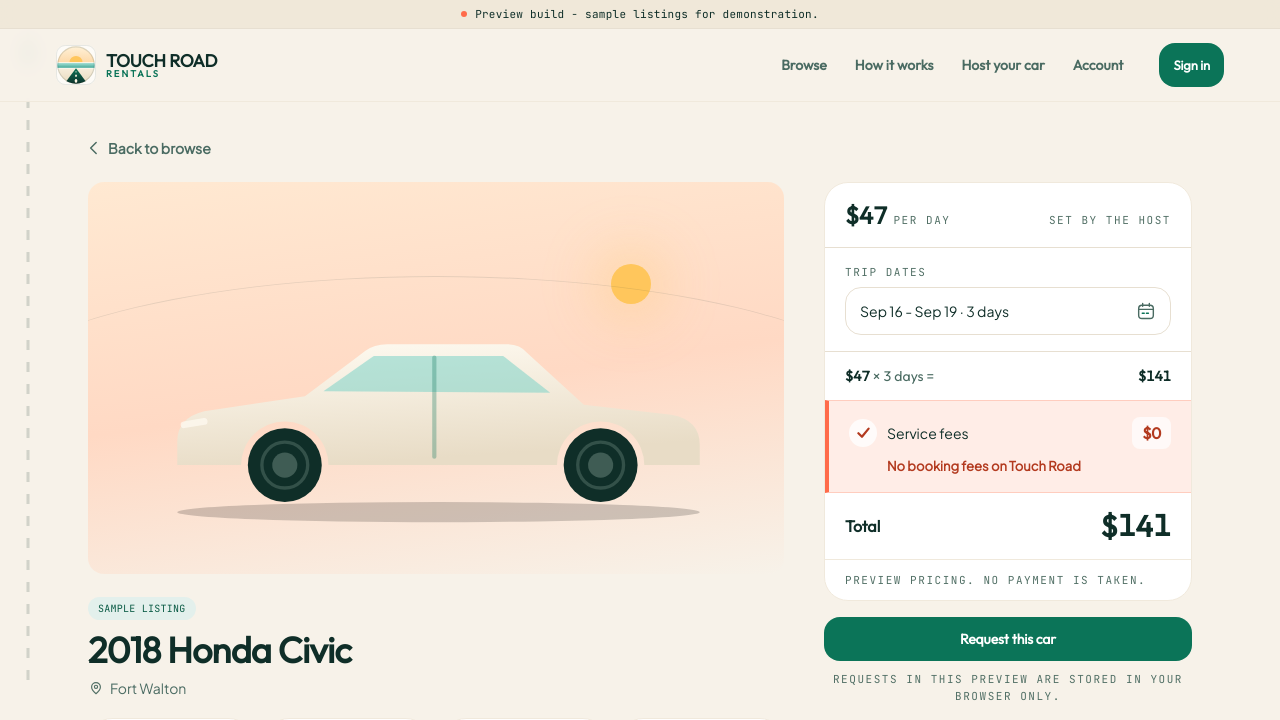
Test case: the trip calculator › re-rolls the total to $235 when the drop off moves out to five days
Click the button named "Trip dates" at (1008, 310), box [845,286,1171,334]
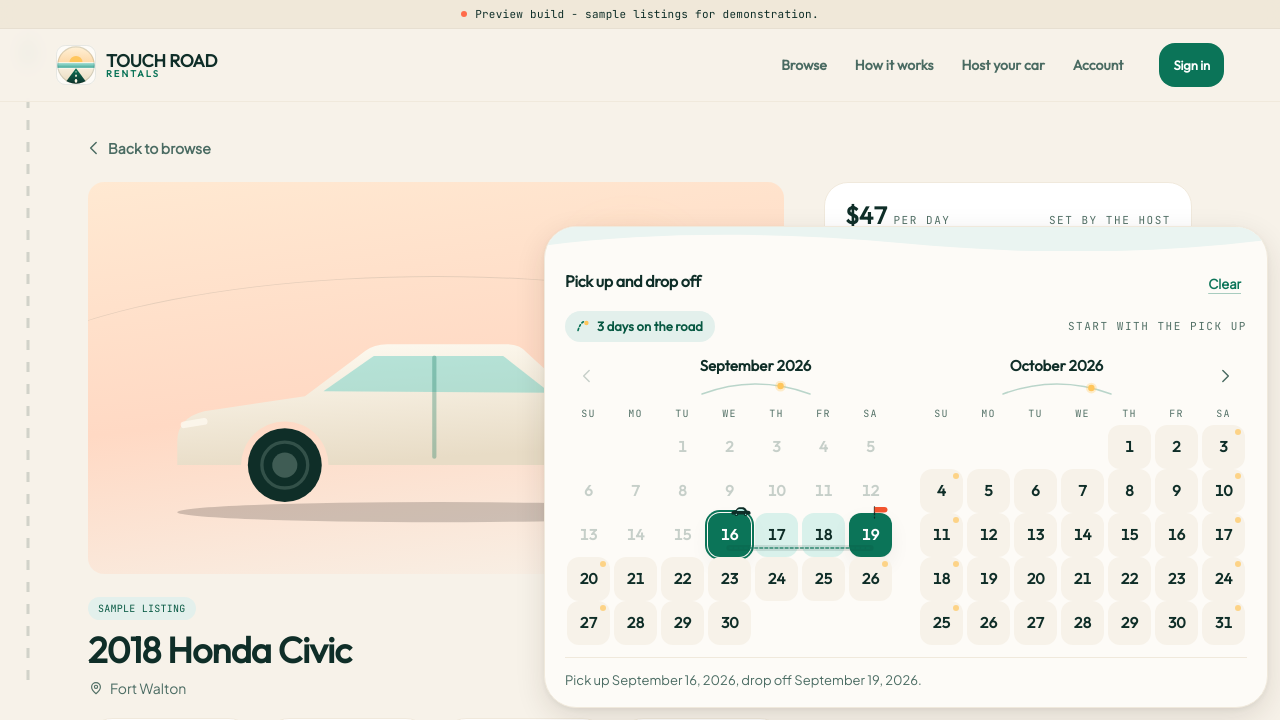
Click the 1st cell "16" at (730, 535), box [708,513,751,557]
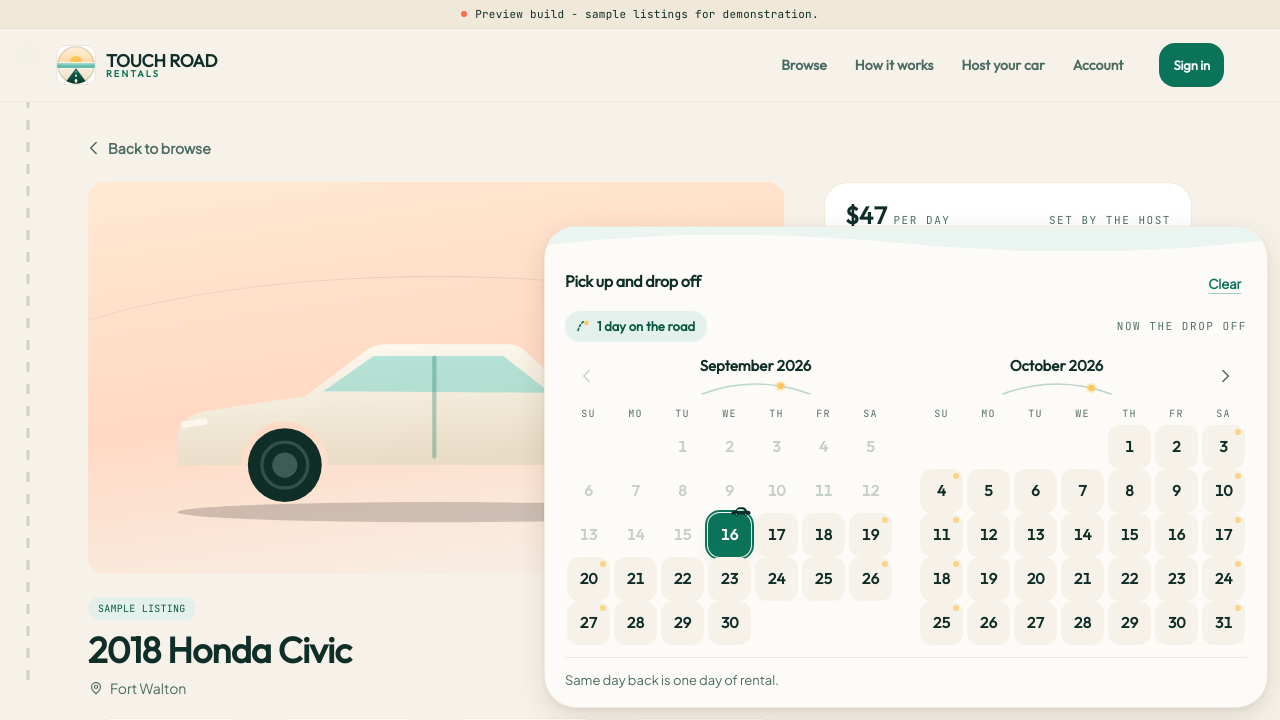
Click the 1st cell "21" at (636, 579), box [614,557,657,601]
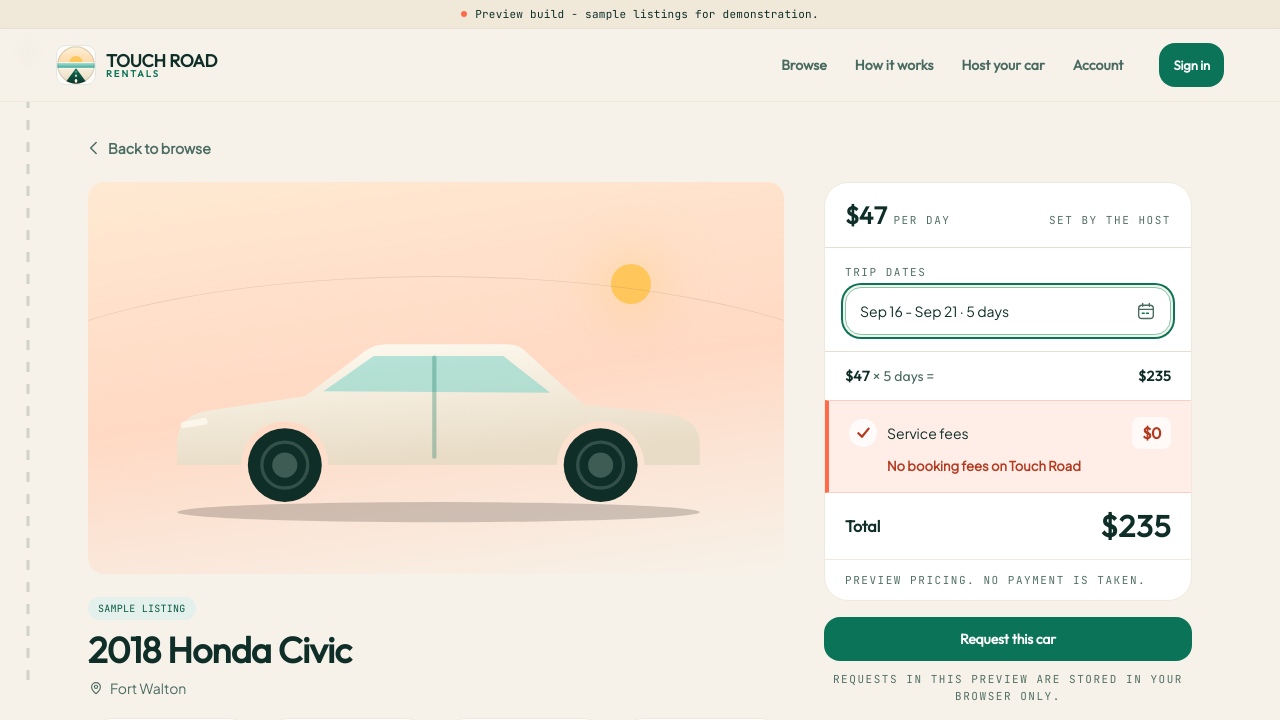
Expected: the element with test id "calc-fees" shows "$0", [1142,422,1161,442]
Now the dialog with test id "date-popover" is gone
Now the element with test id "calc-subtotal" reads "$47 × 5 days = $235", box [845,366,1171,384]
